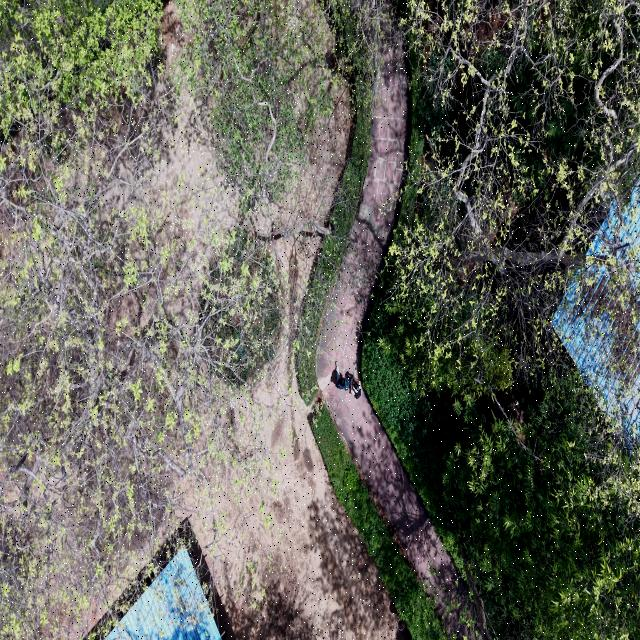DRY_AREA: (127, 232, 397, 639), (317, 47, 482, 638), (157, 235, 396, 639), (171, 234, 396, 639), (213, 236, 396, 639), (215, 401, 397, 639)
ROOFTOP_BUILDING: (553, 189, 639, 437), (85, 518, 235, 639), (107, 550, 221, 639)
VEGETATION_TREE: (0, 0, 377, 638), (0, 0, 371, 638), (0, 0, 330, 638), (363, 2, 639, 638), (0, 190, 280, 636), (386, 0, 639, 404), (363, 308, 639, 638), (443, 373, 639, 639), (180, 0, 333, 211), (296, 0, 375, 404), (312, 404, 446, 639), (362, 267, 465, 572), (0, 0, 161, 171), (362, 309, 466, 572), (296, 77, 370, 404), (190, 229, 282, 384)
